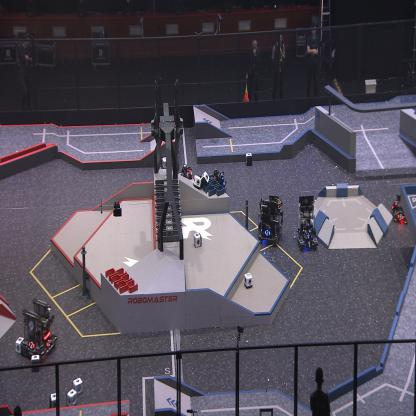car: (20, 298, 56, 358), (258, 193, 284, 245), (296, 194, 318, 251), (207, 170, 227, 200), (392, 193, 411, 223), (177, 164, 195, 193)
